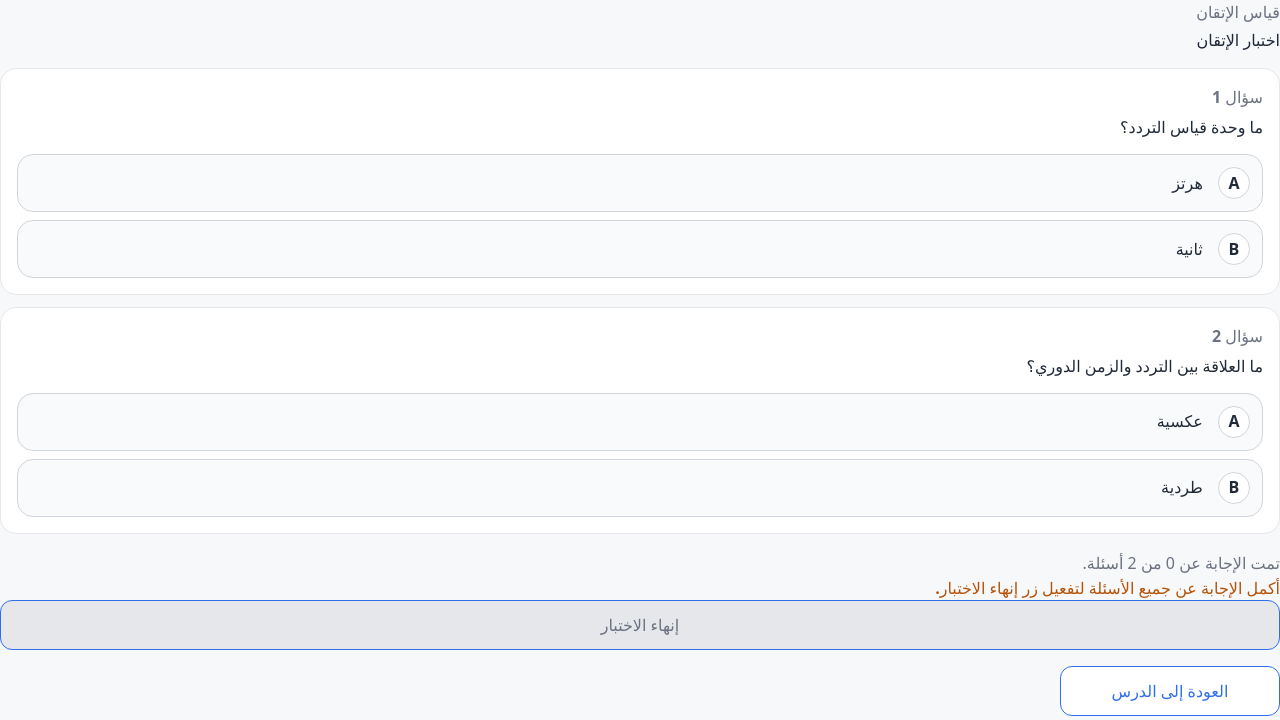
Test: MasteryTestView result persistence integration › لا يعرض زر إعادة المحاولة لرفض RPC غير القابل للتكرار
Click the button "A هرتز".
click(1234, 183)  # box [17, 154, 1263, 212]
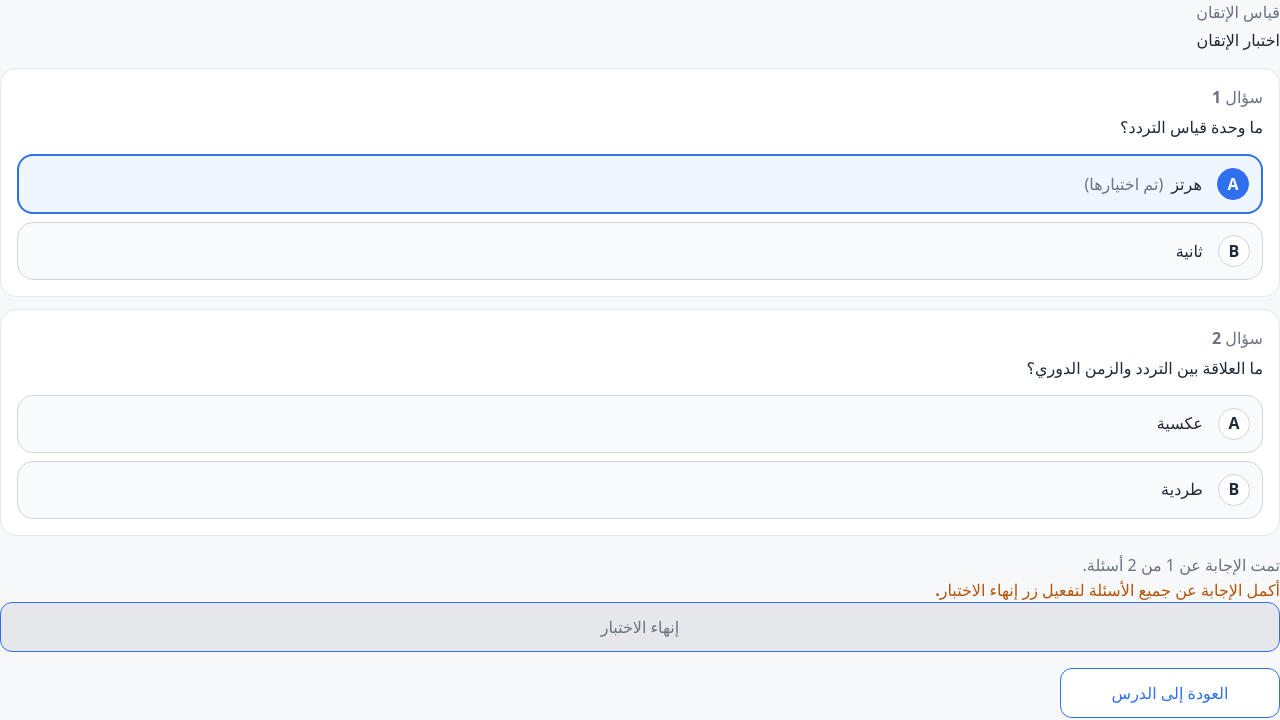
Click the button "A عكسية".
click(1234, 424)  # box [17, 395, 1263, 453]
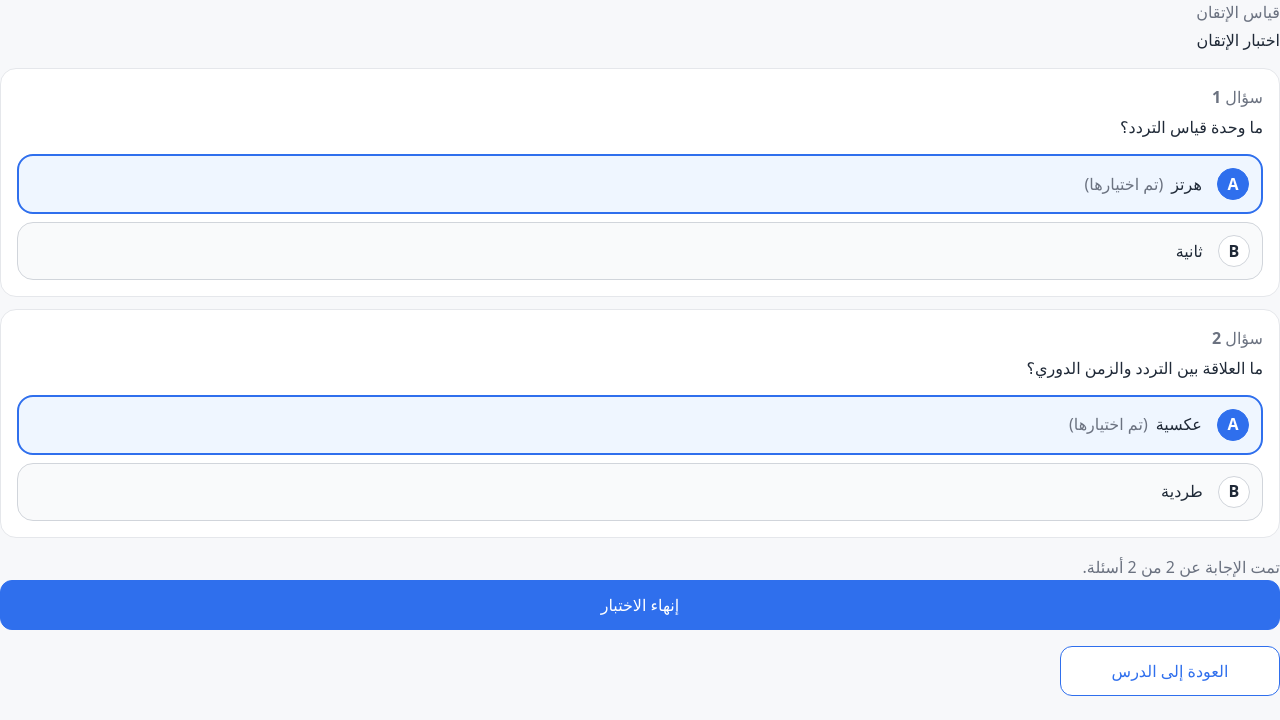
Click the button "إنهاء الاختبار".
click(640, 605)  # box [0, 580, 1279, 630]
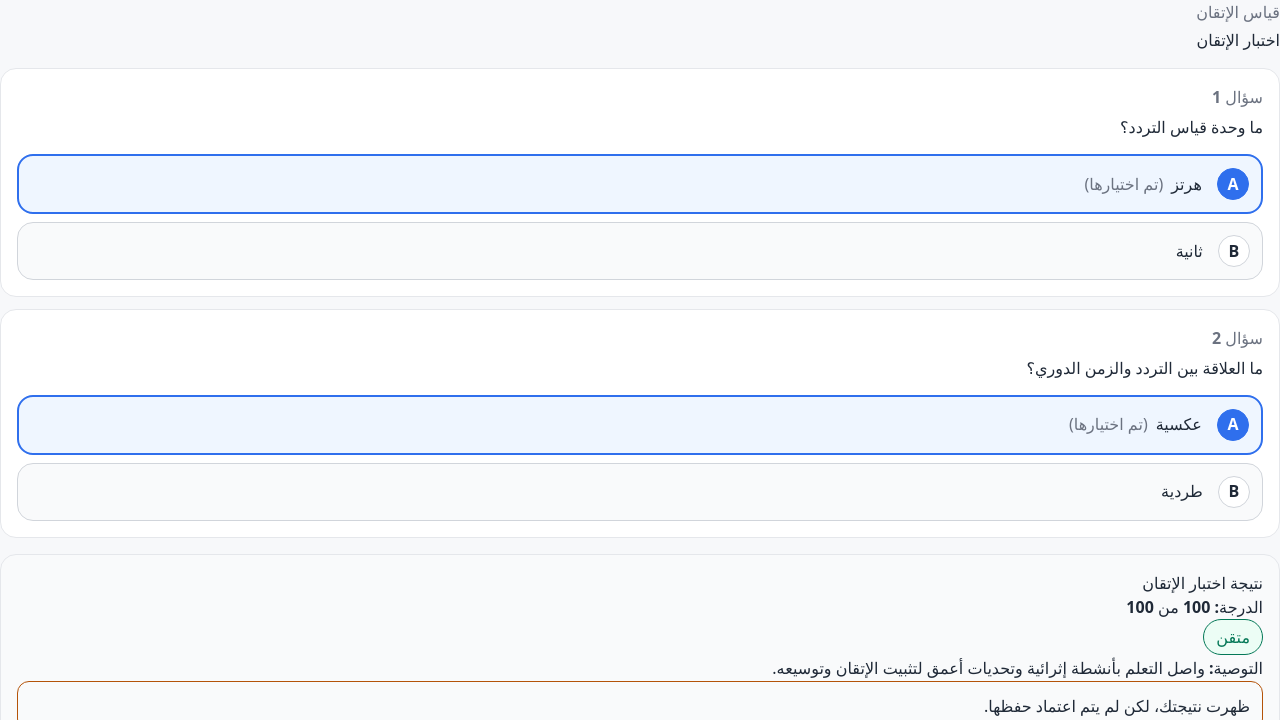
Check: the text "ظهرت نتيجتك، لكن لم يتم اعتماد حفظها." is shown, box [984, 695, 1250, 717]
